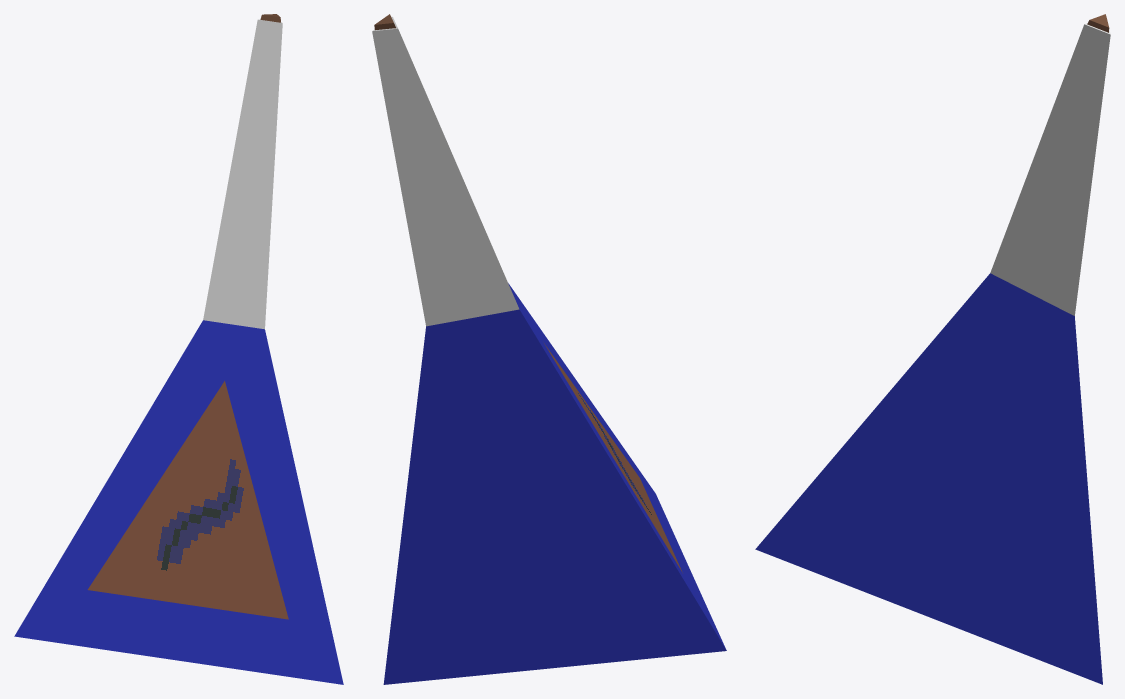
Rendered from Feather_Potion.fbx.
3 renders of one model, left to right at view 1: azimuth 30°, elevation 25°; view 2: azimuth 150°, elevation 25°; view 3: azimuth 270°, elevation 25°, orthographic. The views are drawn at different scales.
Parts seen in each view (by area): view 1: Feather Potion; view 2: Feather Potion; view 3: Feather Potion.
Boxes of the visible parts, x1,y1,x2,y2 form: Feather Potion: (14, 19, 343, 684); Feather Potion: (372, 17, 726, 684); Feather Potion: (755, 23, 1110, 684).
Bounding box in the file's own units: 351 × 698 × 338.
